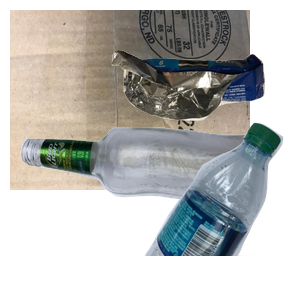cardboard: (10, 10, 250, 190)
glass: (18, 124, 258, 300)
plastic: (142, 120, 300, 300)
trash: (109, 47, 300, 160)
